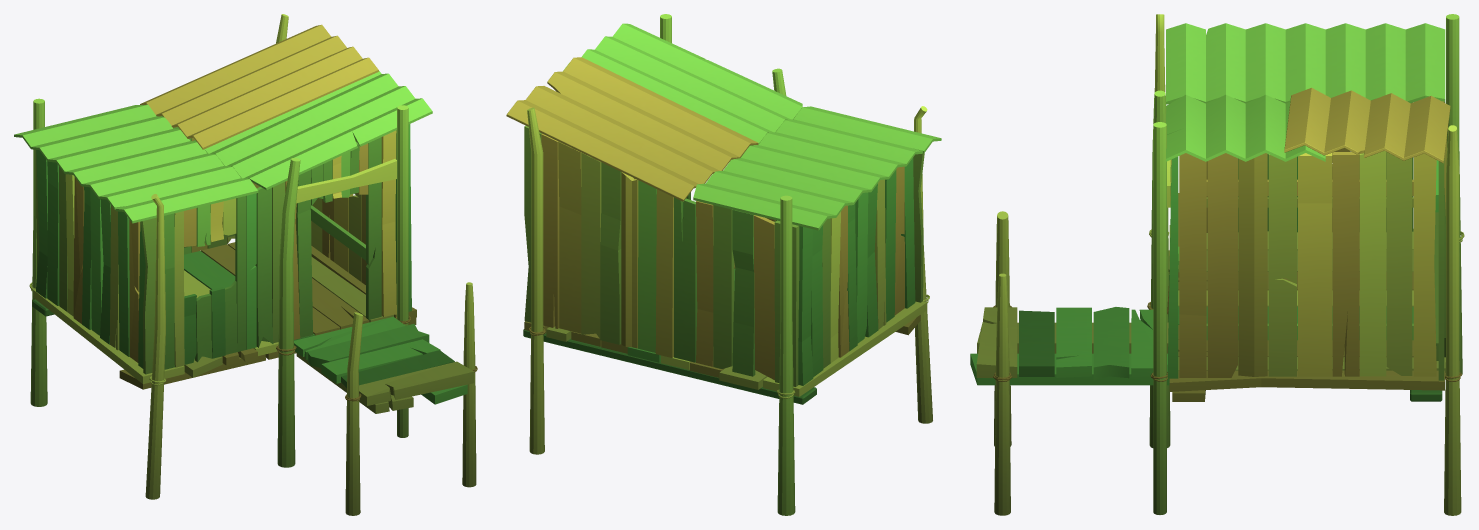
The model's file is SM_Sw_Shed_01.fbx.
3 views of the same model, side by side, from view 1: azimuth 30°, elevation 25°; view 2: azimuth 150°, elevation 25°; view 3: azimuth 270°, elevation 25° (orthographic). The views are drawn at different scales.
Visible parts, largest first — view 1: SM_Marais_Cabanon_01; view 2: SM_Marais_Cabanon_01; view 3: SM_Marais_Cabanon_01.
Part boxes in pixels (bbox=[...]): SM_Marais_Cabanon_01: bbox=[14, 14, 477, 515]; SM_Marais_Cabanon_01: bbox=[506, 14, 941, 515]; SM_Marais_Cabanon_01: bbox=[970, 14, 1464, 515].
Bounding box in the file's own units: 307 × 320 × 369.
